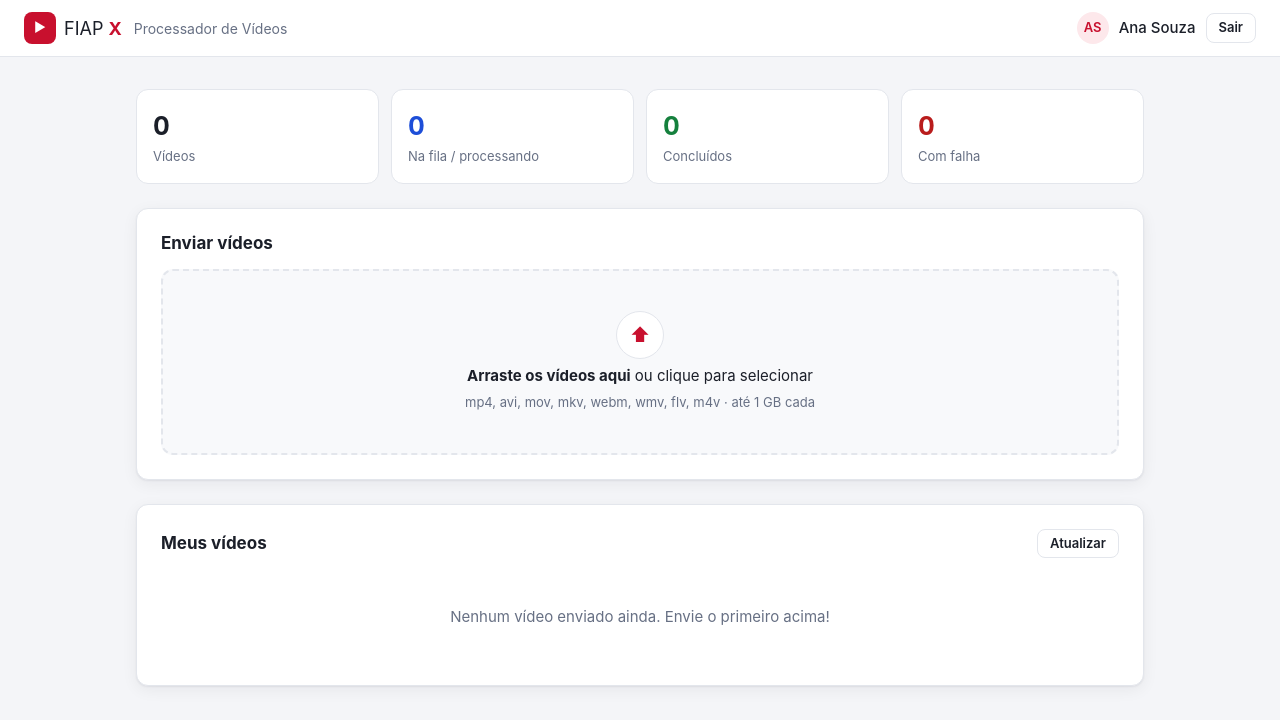
sessão › restaura a sessão salva e permite sair
Check: the text "Nenhum vídeo enviado ainda. Envie o primeiro acima!" is shown, box [450,608,830,626]
Click the button "Sair" at (1231,28), box [1206,13,1256,43]
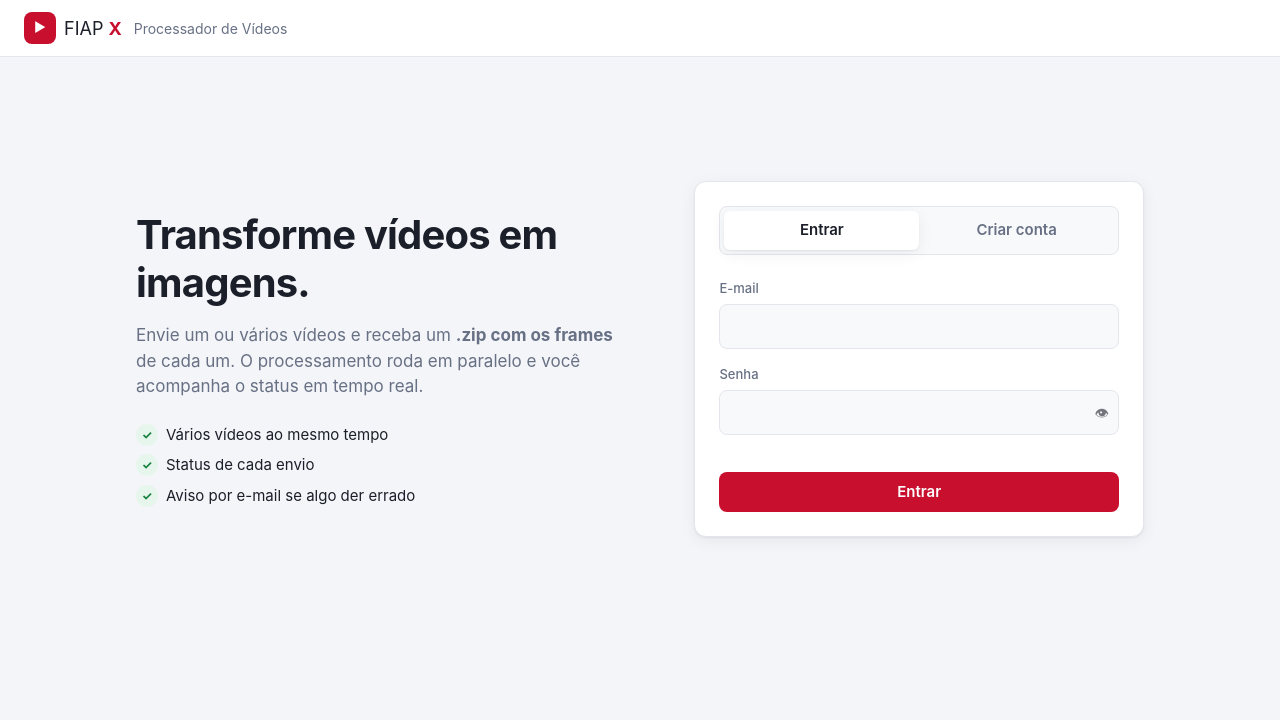
Check: the form "Entrar" is shown, box [720,279,1119,512]
